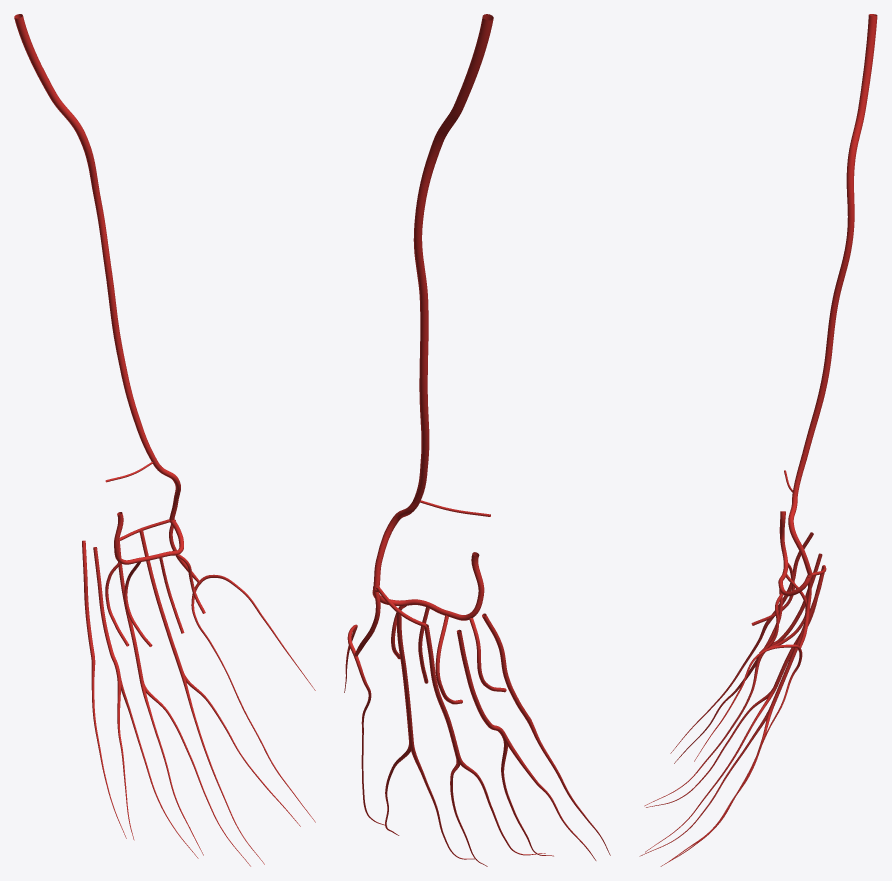
The model's file is circulatorio-radial-artery-l.glb.
3 renders of one model, left to right at view 1: azimuth 30°, elevation 25°; view 2: azimuth 150°, elevation 25°; view 3: azimuth 270°, elevation 25°, orthographic. The views are drawn at different scales.
Parts seen in each view (by area): view 1: Radial artery.l, Dorsal digital arteries of hand.l, Dorsal metacarpal arteries.l, Palmar metacarpal arteries.l, Deep palmar arch.l; view 2: Radial artery.l, Dorsal digital arteries of hand.l, Dorsal metacarpal arteries.l, Palmar metacarpal arteries.l, Deep palmar arch.l; view 3: Radial artery.l, Dorsal digital arteries of hand.l, Dorsal metacarpal arteries.l, Palmar metacarpal arteries.l, Deep palmar arch.l.
Boxes of the visible parts, <box> form: Radial artery.l: <box>14,14,180,520</box>; Dorsal digital arteries of hand.l: <box>91,574,315,866</box>; Dorsal metacarpal arteries.l: <box>82,520,199,680</box>; Palmar metacarpal arteries.l: <box>105,554,205,646</box>; Deep palmar arch.l: <box>114,512,183,564</box>; Radial artery.l: <box>373,14,493,587</box>; Dorsal digital arteries of hand.l: <box>344,624,610,866</box>; Dorsal metacarpal arteries.l: <box>354,587,530,757</box>; Palmar metacarpal arteries.l: <box>391,604,506,704</box>; Deep palmar arch.l: <box>372,552,484,620</box>; Radial artery.l: <box>788,14,877,575</box>; Dorsal digital arteries of hand.l: <box>639,621,802,866</box>; Dorsal metacarpal arteries.l: <box>764,532,824,702</box>; Palmar metacarpal arteries.l: <box>751,562,806,658</box>; Deep palmar arch.l: <box>778,511,812,596</box>.
Size of the model in its own units: 0.106 by 0.3833 by 0.1057.
